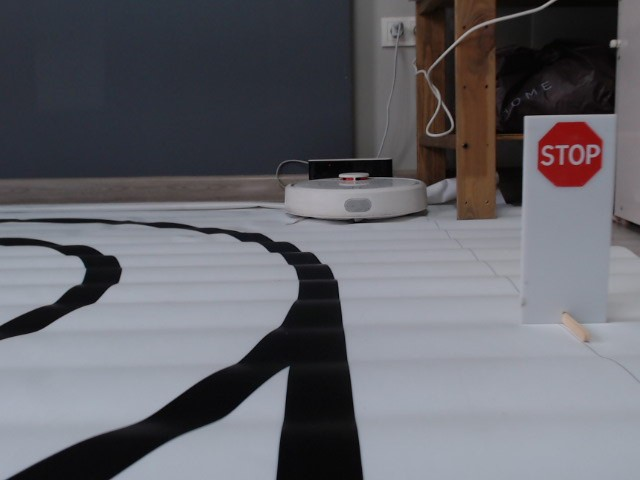Stop: (536, 119, 605, 189)
